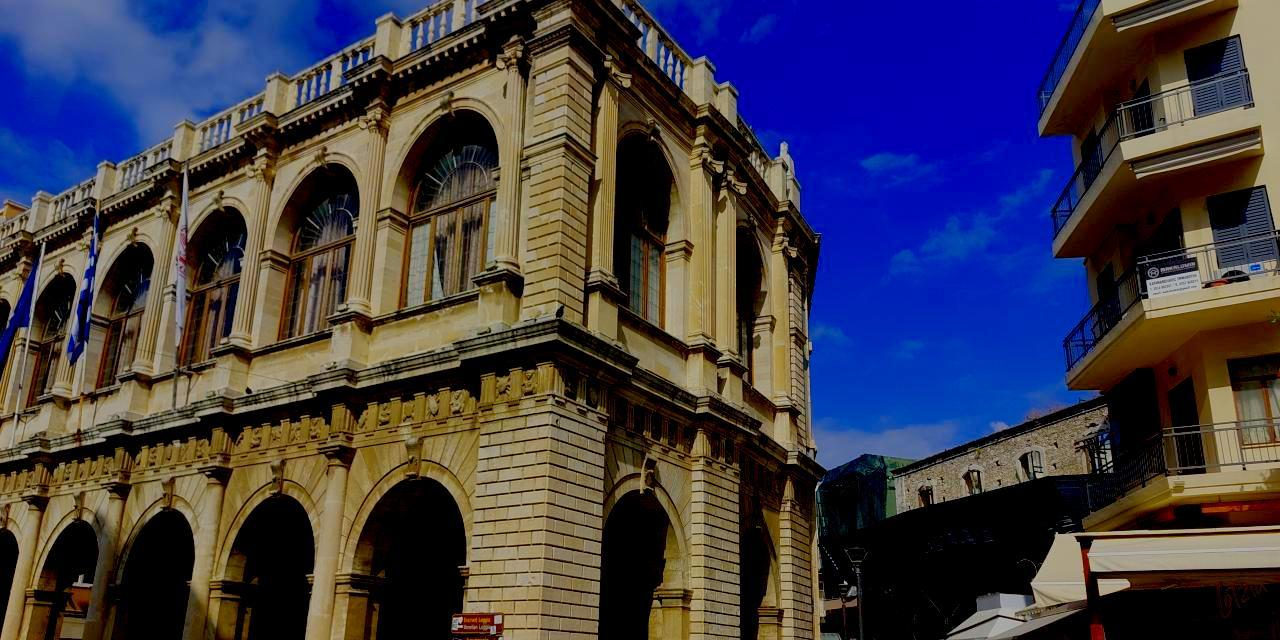Loggia: (1, 1, 825, 640)
